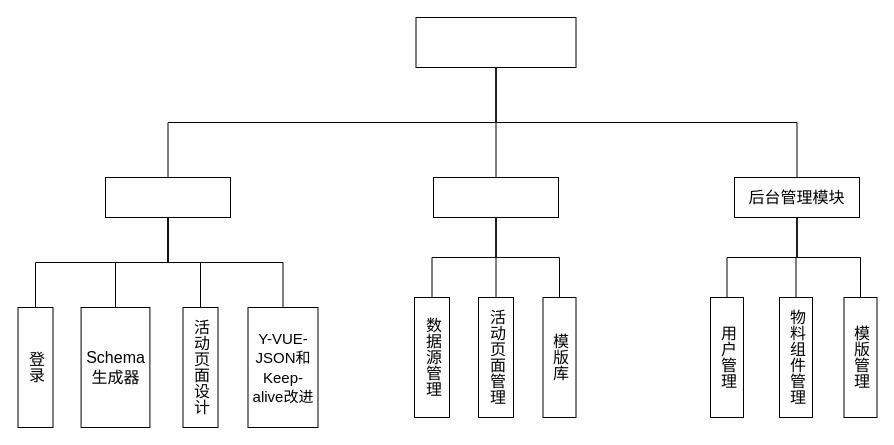
Image size: 894x445. Some labels were removed from this diagram. The shapes that lost their labels are listed below. From the top down, each one's centre as x and y in pixels, then its label:
At (495,42): "活动页面搭建平台".
At (167,197): "平台公共模块".
At (495,197): "用户模块".
